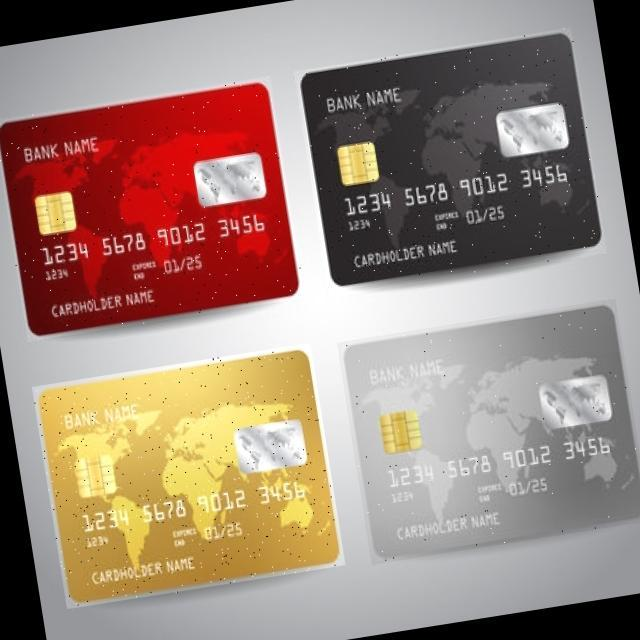payment_card: (32, 347, 343, 607), (299, 32, 603, 285), (0, 80, 299, 336), (342, 306, 639, 560)
